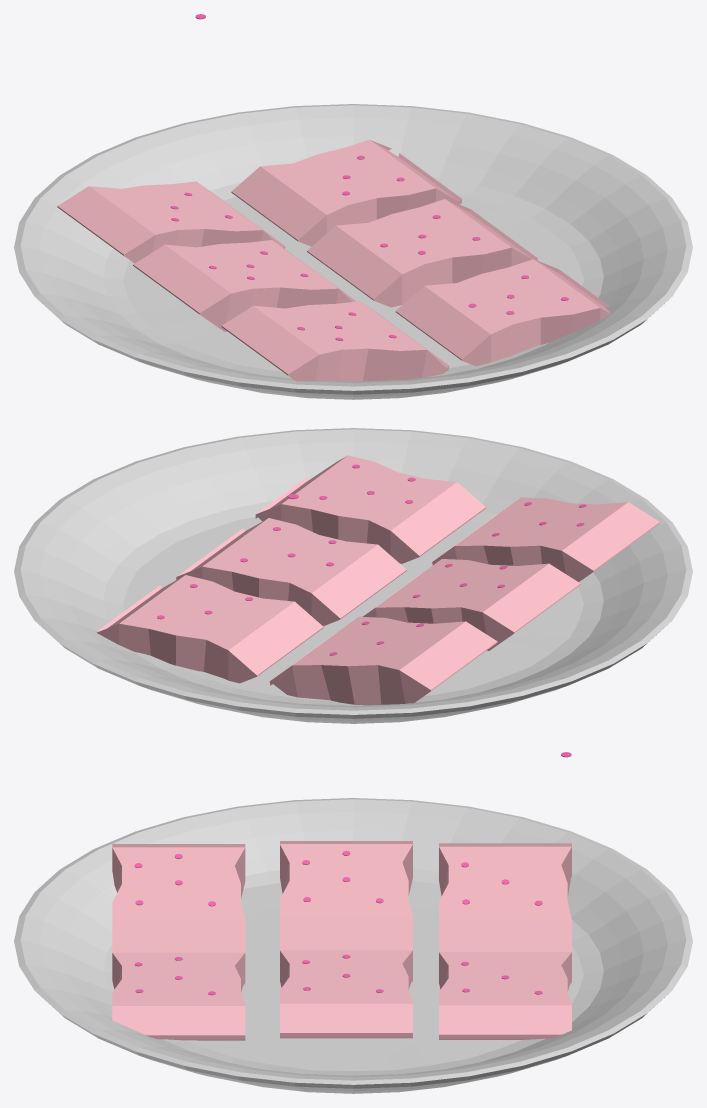
File: kue hawkue.fbx
3 renders of one model, top to bottom at view 1: azimuth 30°, elevation 25°; view 2: azimuth 150°, elevation 25°; view 3: azimuth 270°, elevation 25°, orthographic.
Visible parts, largest first — view 1: Cylinder, Cube, Cube.002, Cube.001, Cube.005, Cube.003, Cube.004; view 2: Cylinder, Cube.001, Cube.002, Cube.004, Cube, Cube.005, Cube.003; view 3: Cylinder, Cube.003, Cube.005, Cube.004, Cube, Cube.001, Cube.002.
Boxes of the visible parts, x1,y1,x2,y2 form: Cylinder: (14, 104, 692, 399); Cube: (307, 199, 537, 307); Cube.002: (395, 259, 610, 366); Cube.001: (231, 139, 461, 246); Cube.005: (221, 301, 449, 381); Cube.003: (133, 240, 356, 331); Cube.004: (57, 181, 285, 263); Cylinder: (14, 428, 692, 723); Cube.001: (97, 575, 323, 683); Cube.002: (255, 455, 485, 563); Cube.004: (269, 616, 497, 705); Cube: (176, 518, 406, 626); Cube.005: (432, 497, 659, 581); Cube.003: (362, 559, 580, 650); Cylinder: (14, 798, 692, 1093); Cube.003: (280, 841, 412, 950); Cube.005: (112, 844, 245, 952); Cube.004: (439, 843, 571, 951); Cube: (280, 950, 412, 1038); Cube.001: (439, 952, 571, 1039); Cube.002: (112, 952, 245, 1040).
Bounding box in the file's own units: 231 × 80.82 × 231.
